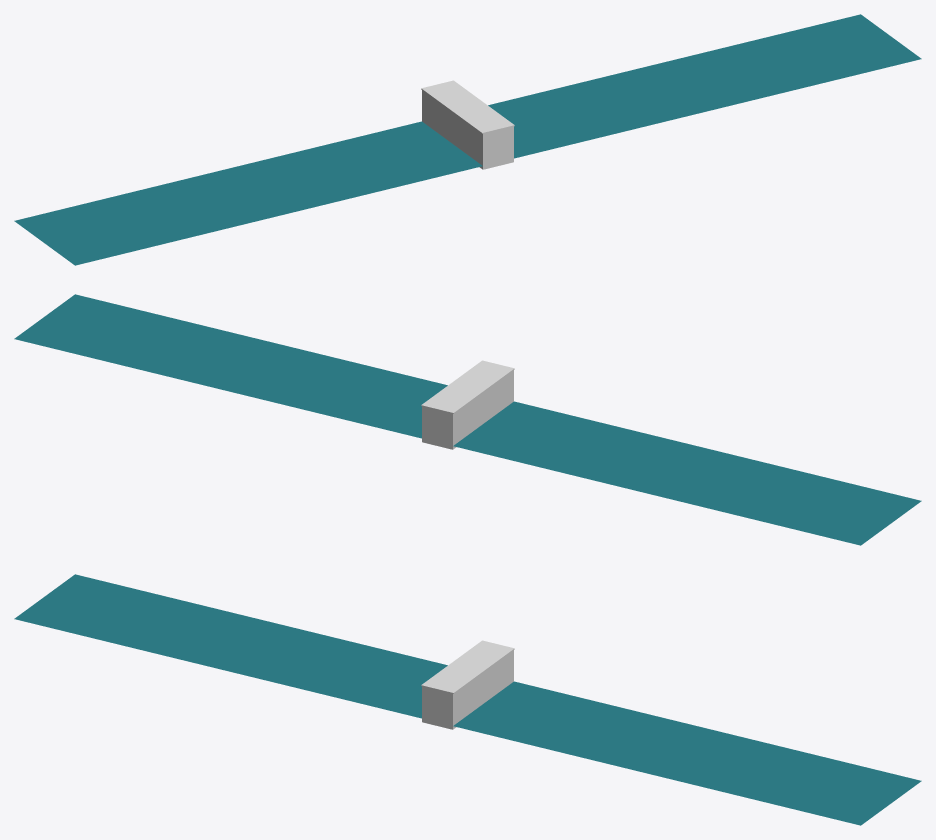
The model's file is Harita_20_Sur_Ustu_Gun_Batimi_Ozel.fbx.
3 views of the same model, one above another, from view 1: azimuth 30°, elevation 25°; view 2: azimuth 150°, elevation 25°; view 3: azimuth 330°, elevation 25° (orthographic).
Visible parts, largest first — view 1: Harita_20_Deniz.001, Harita_20_Sur_Govde.001, Harita_20_Sur_Ustu_Yol.001; view 2: Harita_20_Deniz.001, Harita_20_Sur_Govde.001, Harita_20_Sur_Ustu_Yol.001; view 3: Harita_20_Deniz.001, Harita_20_Sur_Govde.001, Harita_20_Sur_Ustu_Yol.001.
Boxes of the visible parts, x1,y1,x2,y2 form: Harita_20_Deniz.001: (14, 14, 921, 265); Harita_20_Sur_Govde.001: (422, 90, 513, 169); Harita_20_Sur_Ustu_Yol.001: (421, 80, 514, 133); Harita_20_Deniz.001: (14, 294, 921, 545); Harita_20_Sur_Govde.001: (422, 370, 513, 449); Harita_20_Sur_Ustu_Yol.001: (421, 360, 514, 413); Harita_20_Deniz.001: (14, 574, 921, 825); Harita_20_Sur_Govde.001: (422, 650, 513, 729); Harita_20_Sur_Ustu_Yol.001: (421, 640, 514, 693).
Bounding box in the file's own units: 240 × 10 × 30.
